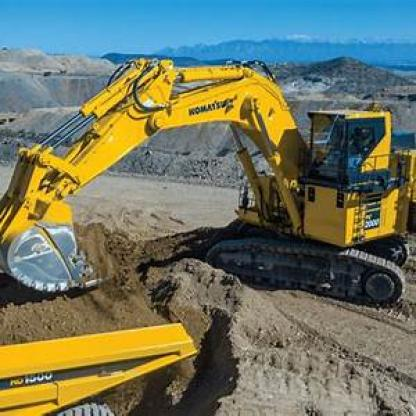excavator: (10, 38, 413, 328)
